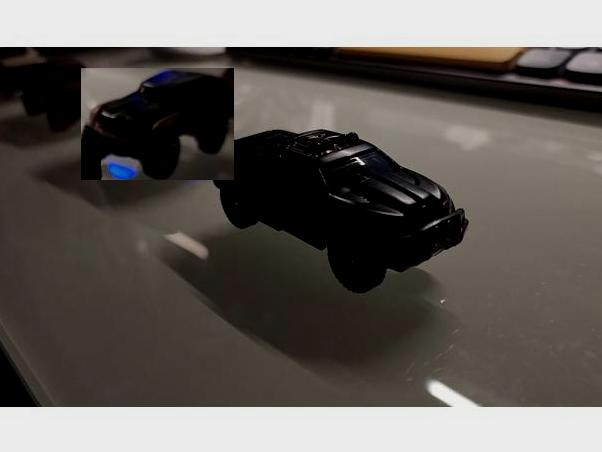toy-car: (212, 128, 469, 296), (80, 68, 233, 180)
